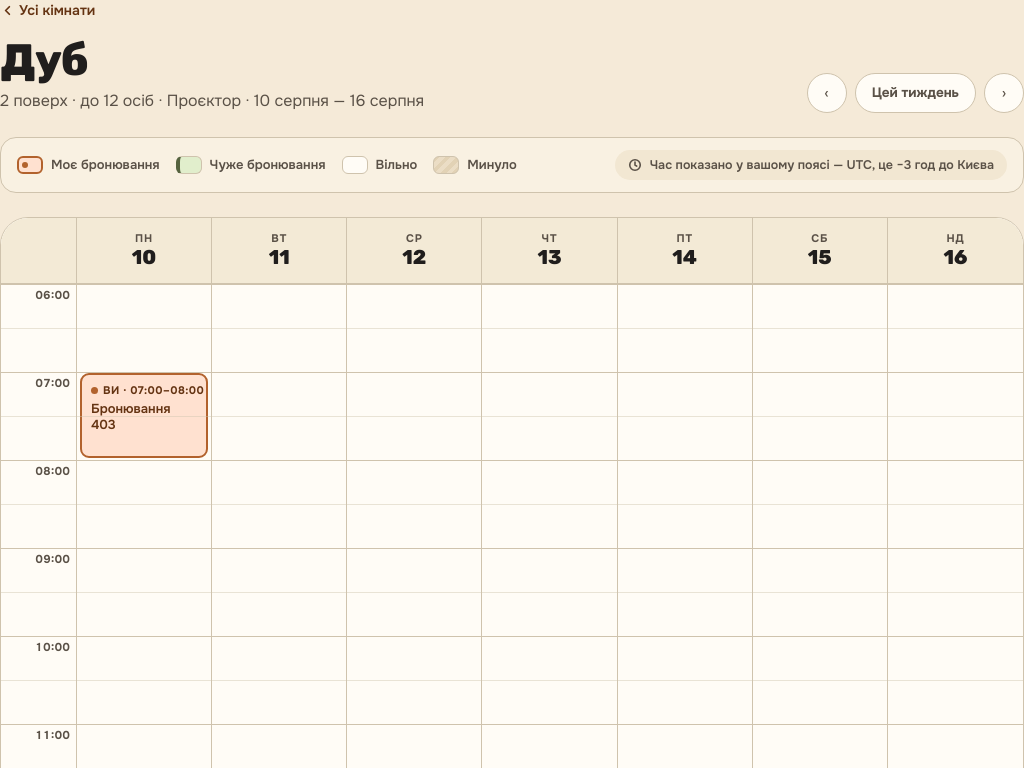
it: Phase 5 Booking Feature › cancelling a booking with 403 Forbidden response restores the block onto grid and displays error message in dialog
This screenshot has width=1024, height=768.
Expected: the heading "Дуб" is shown, top-left (0, 34), bottom-right (88, 86)
Click the text "Бронювання 403": [131, 416] box top-left (91, 400), bottom-right (170, 433)
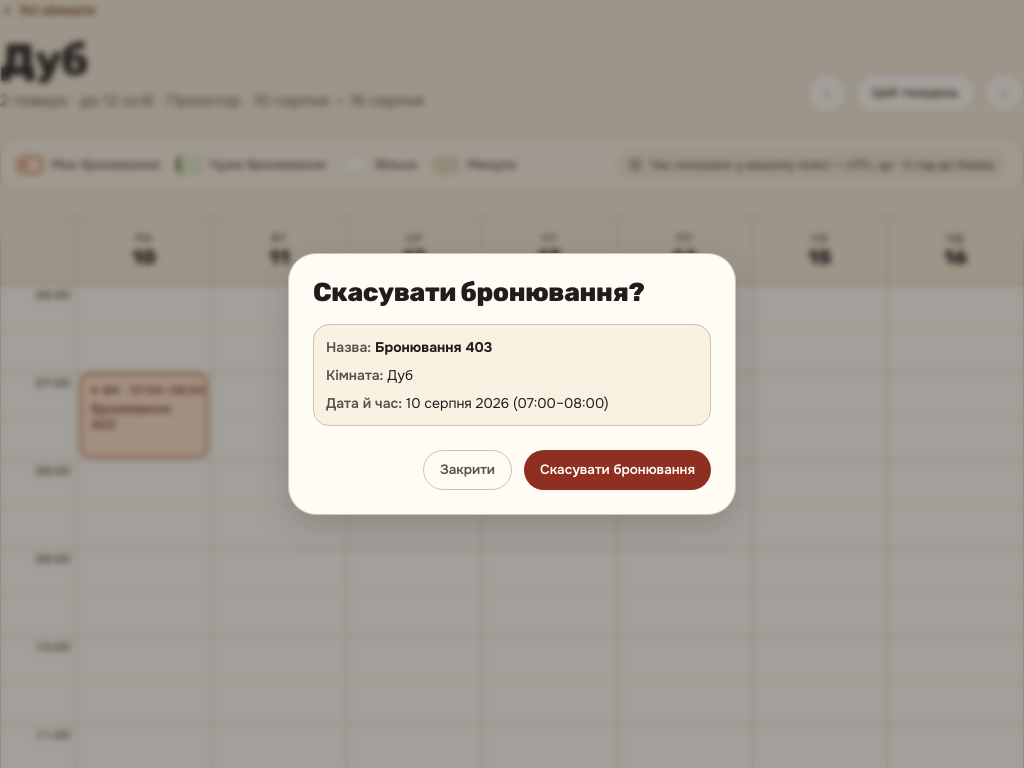
Click the button "Скасувати бронювання": [618, 470] box top-left (524, 450), bottom-right (711, 490)
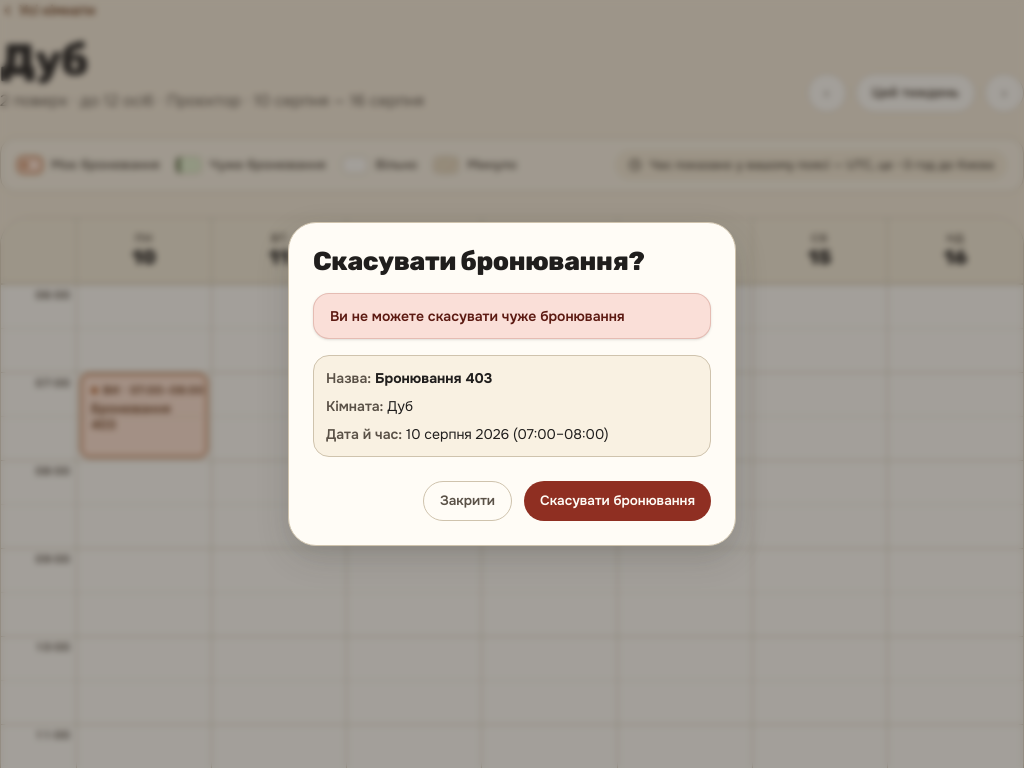
Expected: the text "Бронювання 403" below "06:00" is shown, top-left (91, 400), bottom-right (170, 433)
Result: the text "Ви не можете скасувати чуже бронювання" is shown at top-left (313, 293), bottom-right (711, 339)
